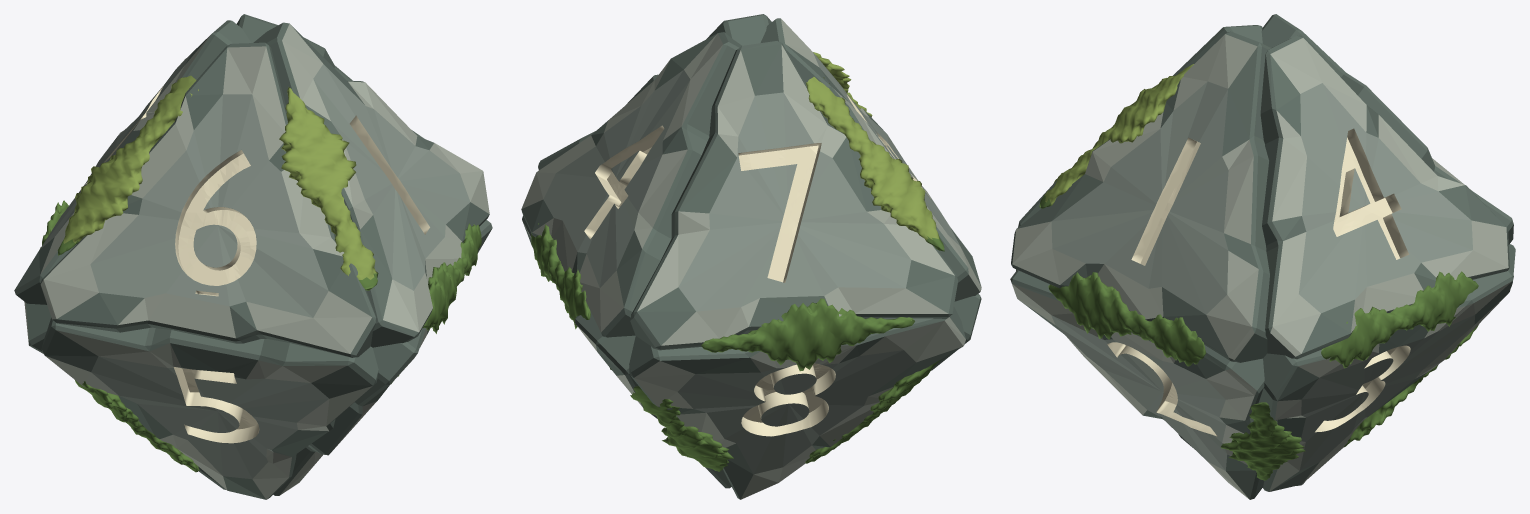
3 renders of one model, left to right at view 1: azimuth 30°, elevation 25°; view 2: azimuth 150°, elevation 25°; view 3: azimuth 270°, elevation 25°, orthographic. The views are drawn at different scales.
Visible parts, largest first — view 1: woodland sculpted d8 canonical die-only; view 2: woodland sculpted d8 canonical die-only; view 3: woodland sculpted d8 canonical die-only.
Boxes of the visible parts, <box> form: woodland sculpted d8 canonical die-only: <box>14,14,492,499</box>; woodland sculpted d8 canonical die-only: <box>521,14,981,499</box>; woodland sculpted d8 canonical die-only: <box>1010,14,1515,499</box>.
Bounding box in the file's own units: 1.7 × 1.7 × 1.69.
